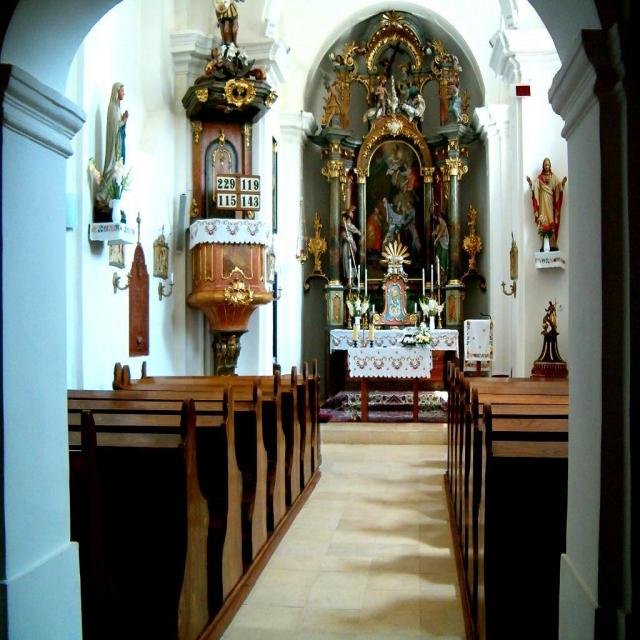table: (346, 348, 433, 415)
